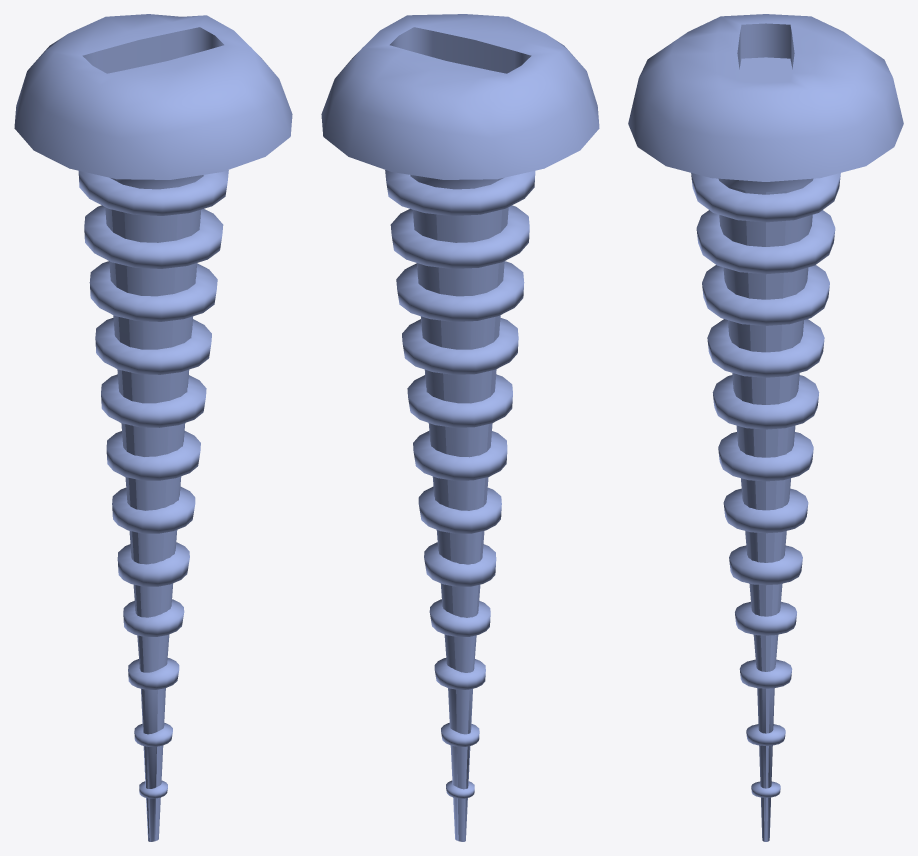
Rendered from Tornillo PLATA.fbx.
The picture shows the model from 3 angles, left to right: view 1: azimuth 30°, elevation 25°; view 2: azimuth 150°, elevation 25°; view 3: azimuth 270°, elevation 25°; orthographic projection.
Visible parts, largest first — view 1: Cube.001; view 2: Cube.001; view 3: Cube.001.
Boxes of the visible parts, box(x1,y1,x2,y2) form: Cube.001: box(14, 14, 292, 841); Cube.001: box(321, 14, 599, 841); Cube.001: box(628, 14, 903, 841).
Size of the model in its own units: 168 by 529 by 168.
